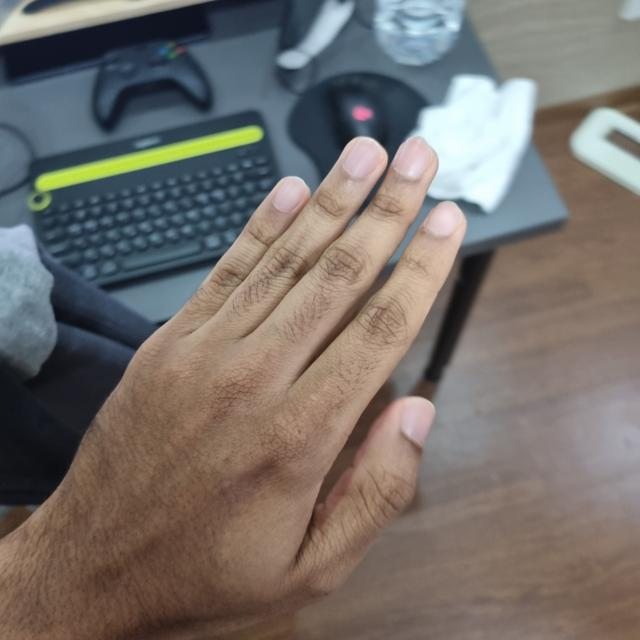Paper: (20, 134, 457, 637)
